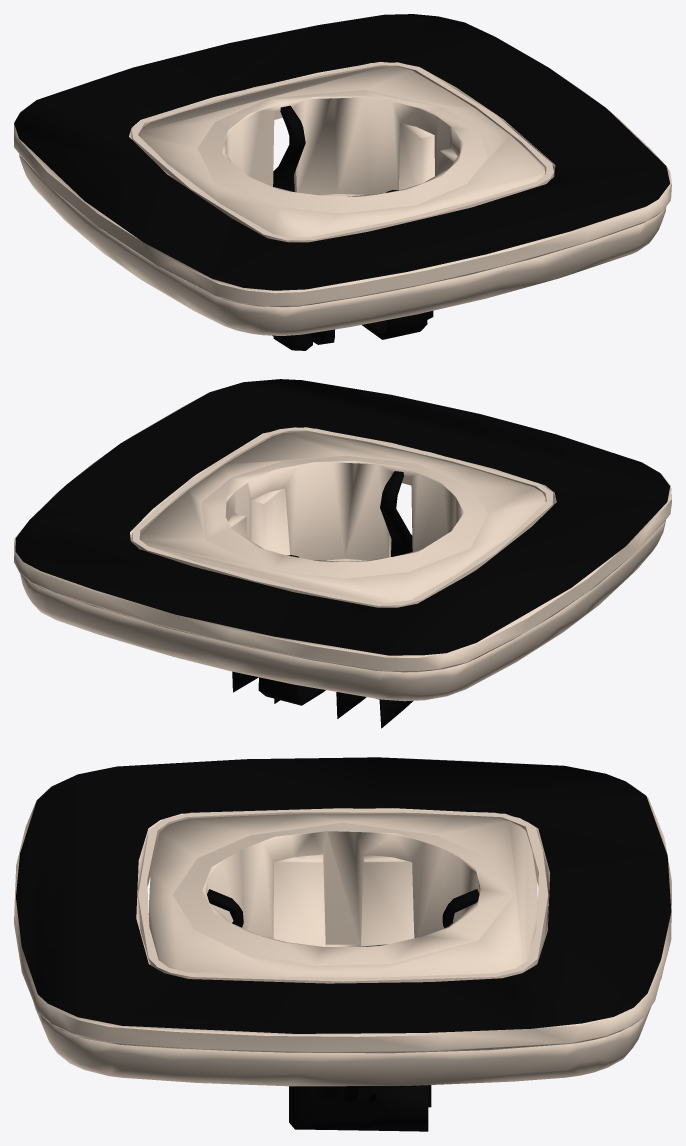
File: plug_socket1.glb
The picture shows the model from 3 angles, top to bottom: view 1: azimuth 30°, elevation 25°; view 2: azimuth 150°, elevation 25°; view 3: azimuth 270°, elevation 25°; orthographic projection. The views are drawn at different scales.
Visible parts, largest first — view 1: Radian 1x008, Socket with curtains; view 2: Radian 1x008, Socket with curtains; view 3: Radian 1x008, Socket with curtains.
Boxes of the visible parts, left/top/right/bottom form: Radian 1x008: left=14, top=14, right=671, bottom=335; Socket with curtains: left=140, top=66, right=545, bottom=350; Radian 1x008: left=14, top=379, right=671, bottom=701; Socket with curtains: left=140, top=432, right=545, bottom=728; Radian 1x008: left=14, top=757, right=671, bottom=1086; Socket with curtains: left=148, top=813, right=537, bottom=1131.
Size of the model in its own units: 0.0941 by 0.0317 by 0.094.
